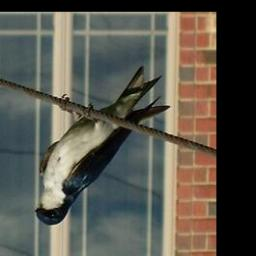Swallow: (35, 65, 172, 228)
